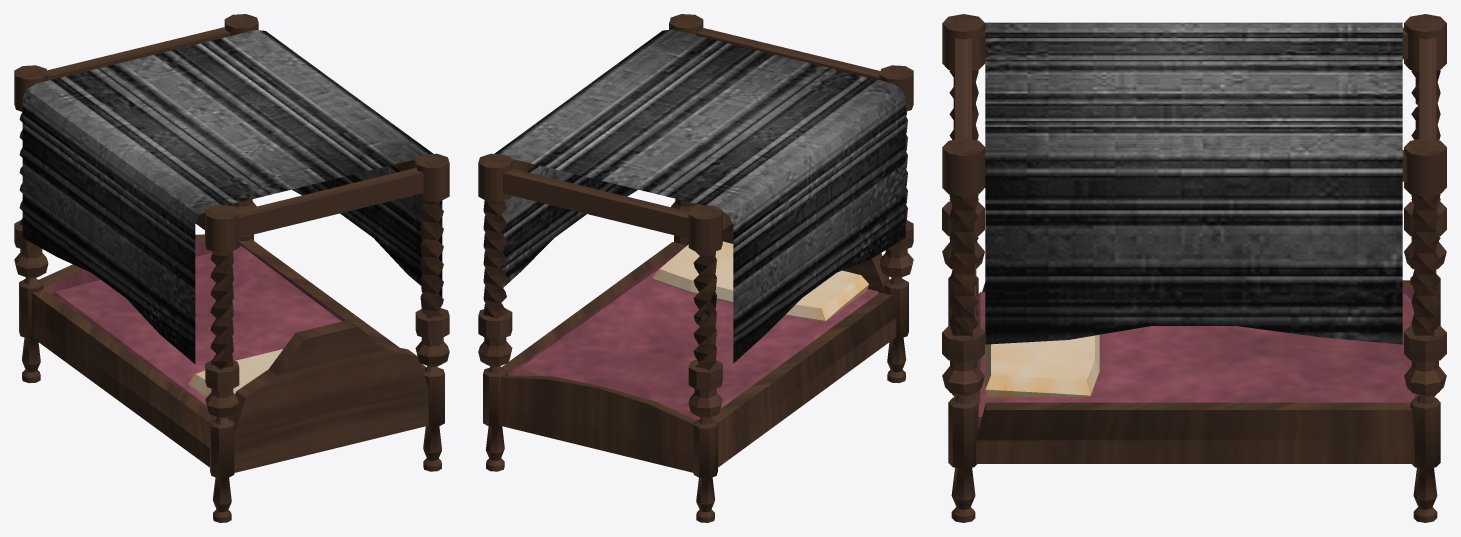
The model's file is FancyBed.fbx.
The picture shows the model from 3 angles, left to right: view 1: azimuth 30°, elevation 25°; view 2: azimuth 150°, elevation 25°; view 3: azimuth 270°, elevation 25°; orthographic projection. The views are drawn at different scales.
Parts seen in each view (by area): view 1: Cube.044; view 2: Cube.044; view 3: Cube.044.
Part boxes in pixels (x1,y1,x2,y2): Cube.044: (14,14,449,522); Cube.044: (478,14,913,522); Cube.044: (942,14,1446,522).
Size of the model in its own units: 245 by 290 by 358.
Materials: 1 (1 with a texture image).
